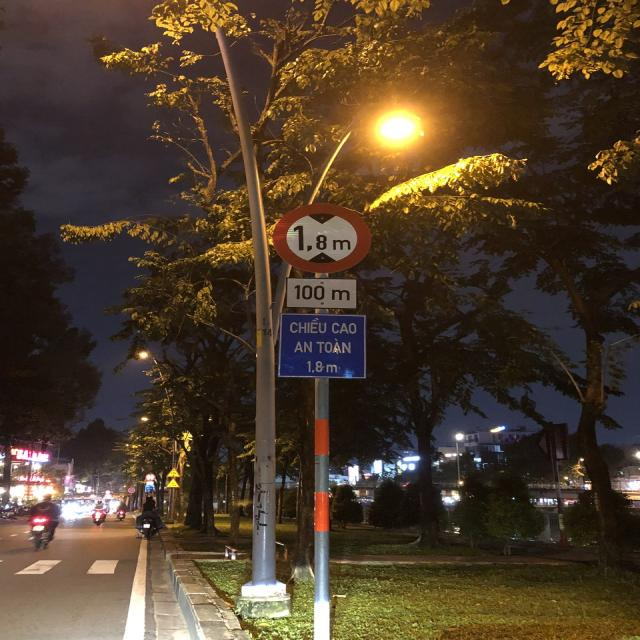Bien bao han che chieu cao: (265, 201, 378, 274)
